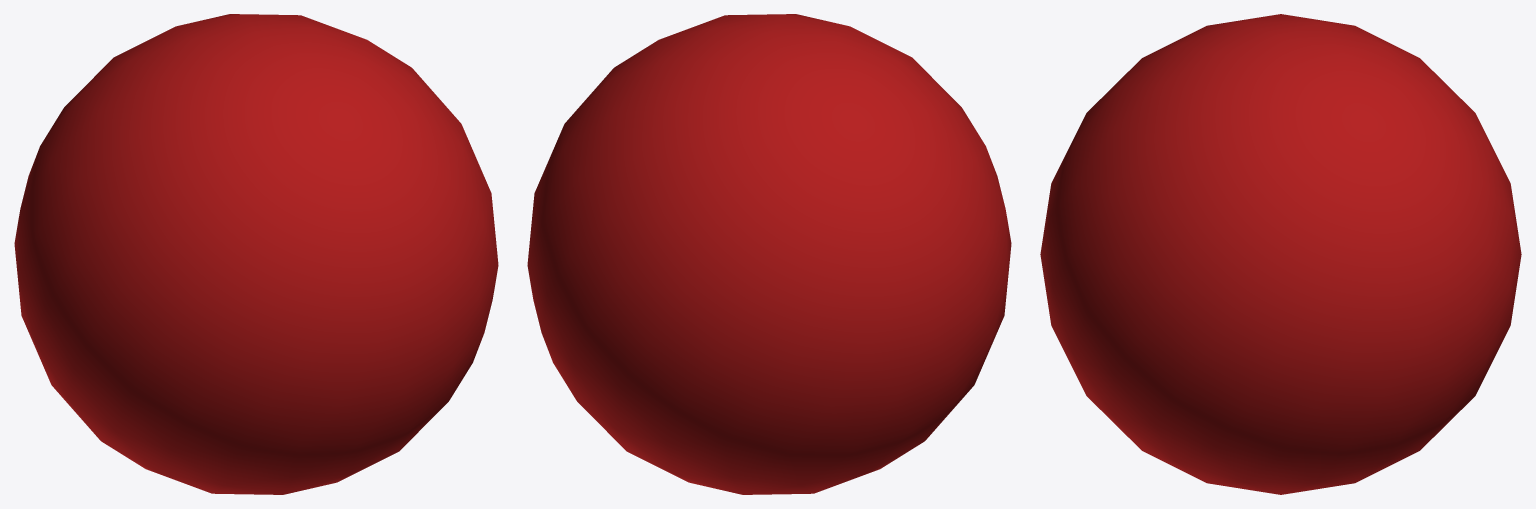
The model's file is ball.DAE.
The picture shows the model from 3 angles, left to right: view 1: azimuth 30°, elevation 25°; view 2: azimuth 150°, elevation 25°; view 3: azimuth 270°, elevation 25°; orthographic projection.
Parts seen in each view (by area): view 1: GeoSphere001; view 2: GeoSphere001; view 3: GeoSphere001.
Boxes of the visible parts, box(x1,y1,x2,y2) form: GeoSphere001: box(14, 14, 498, 494); GeoSphere001: box(527, 14, 1011, 494); GeoSphere001: box(1040, 14, 1521, 494).
Bounding box in the file's own units: 56.64 × 56.64 × 56.64.
